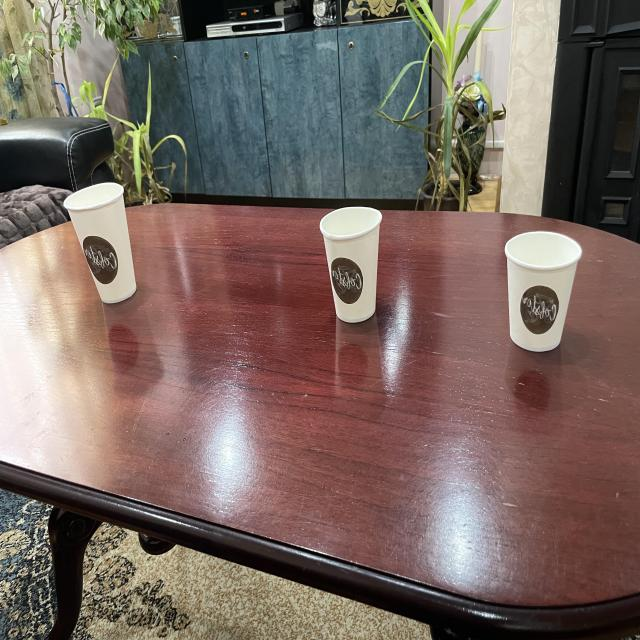big: (64, 174, 142, 309)
medium: (318, 200, 386, 326)
small: (491, 223, 584, 356)
